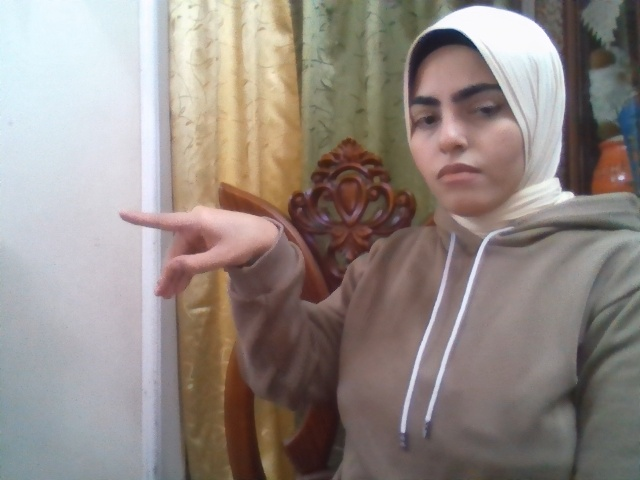P: (118, 205, 274, 300)
